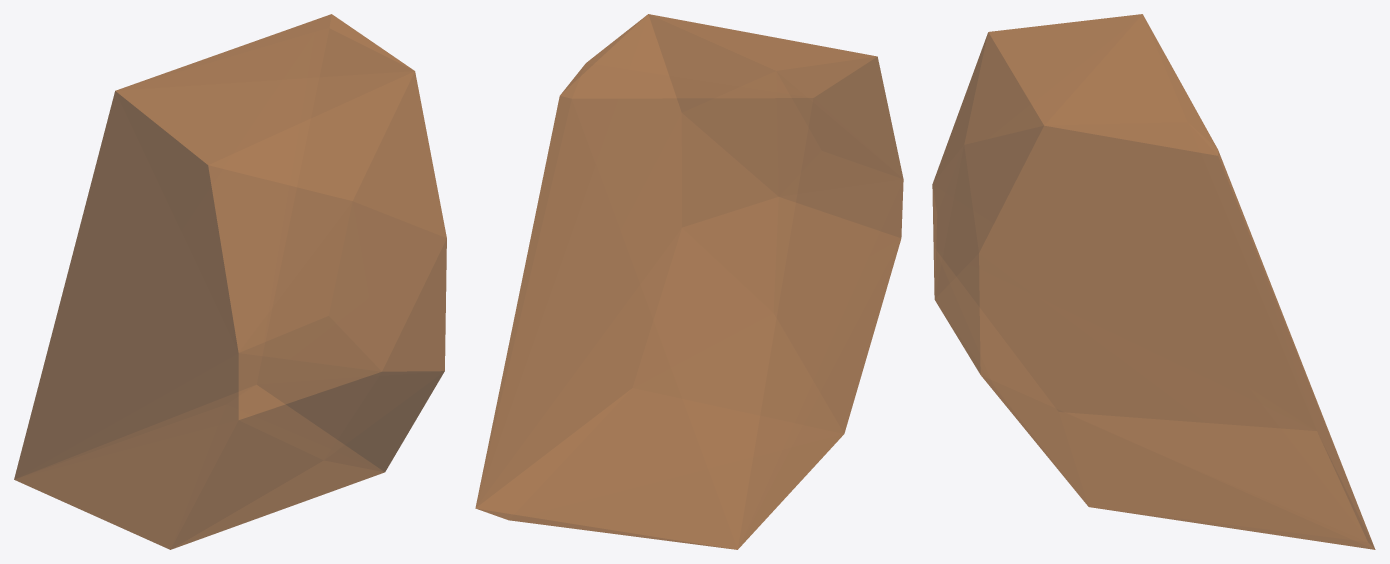
3 views of the same model, side by side, from view 1: azimuth 30°, elevation 25°; view 2: azimuth 150°, elevation 25°; view 3: azimuth 270°, elevation 25° (orthographic). The views are drawn at different scales.
Visible parts, largest first — view 1: Shape_IndexedFaceSet.023_Shape_IndexedFaceSet.7509; view 2: Shape_IndexedFaceSet.023_Shape_IndexedFaceSet.7509; view 3: Shape_IndexedFaceSet.023_Shape_IndexedFaceSet.7509.
Boxes of the visible parts, box(x1,y1,x2,y2) form: Shape_IndexedFaceSet.023_Shape_IndexedFaceSet.7509: box(14, 14, 446, 549); Shape_IndexedFaceSet.023_Shape_IndexedFaceSet.7509: box(475, 14, 903, 549); Shape_IndexedFaceSet.023_Shape_IndexedFaceSet.7509: box(932, 14, 1375, 549).
Size of the model in its own units: 0.143 by 0.2291 by 0.2173.
